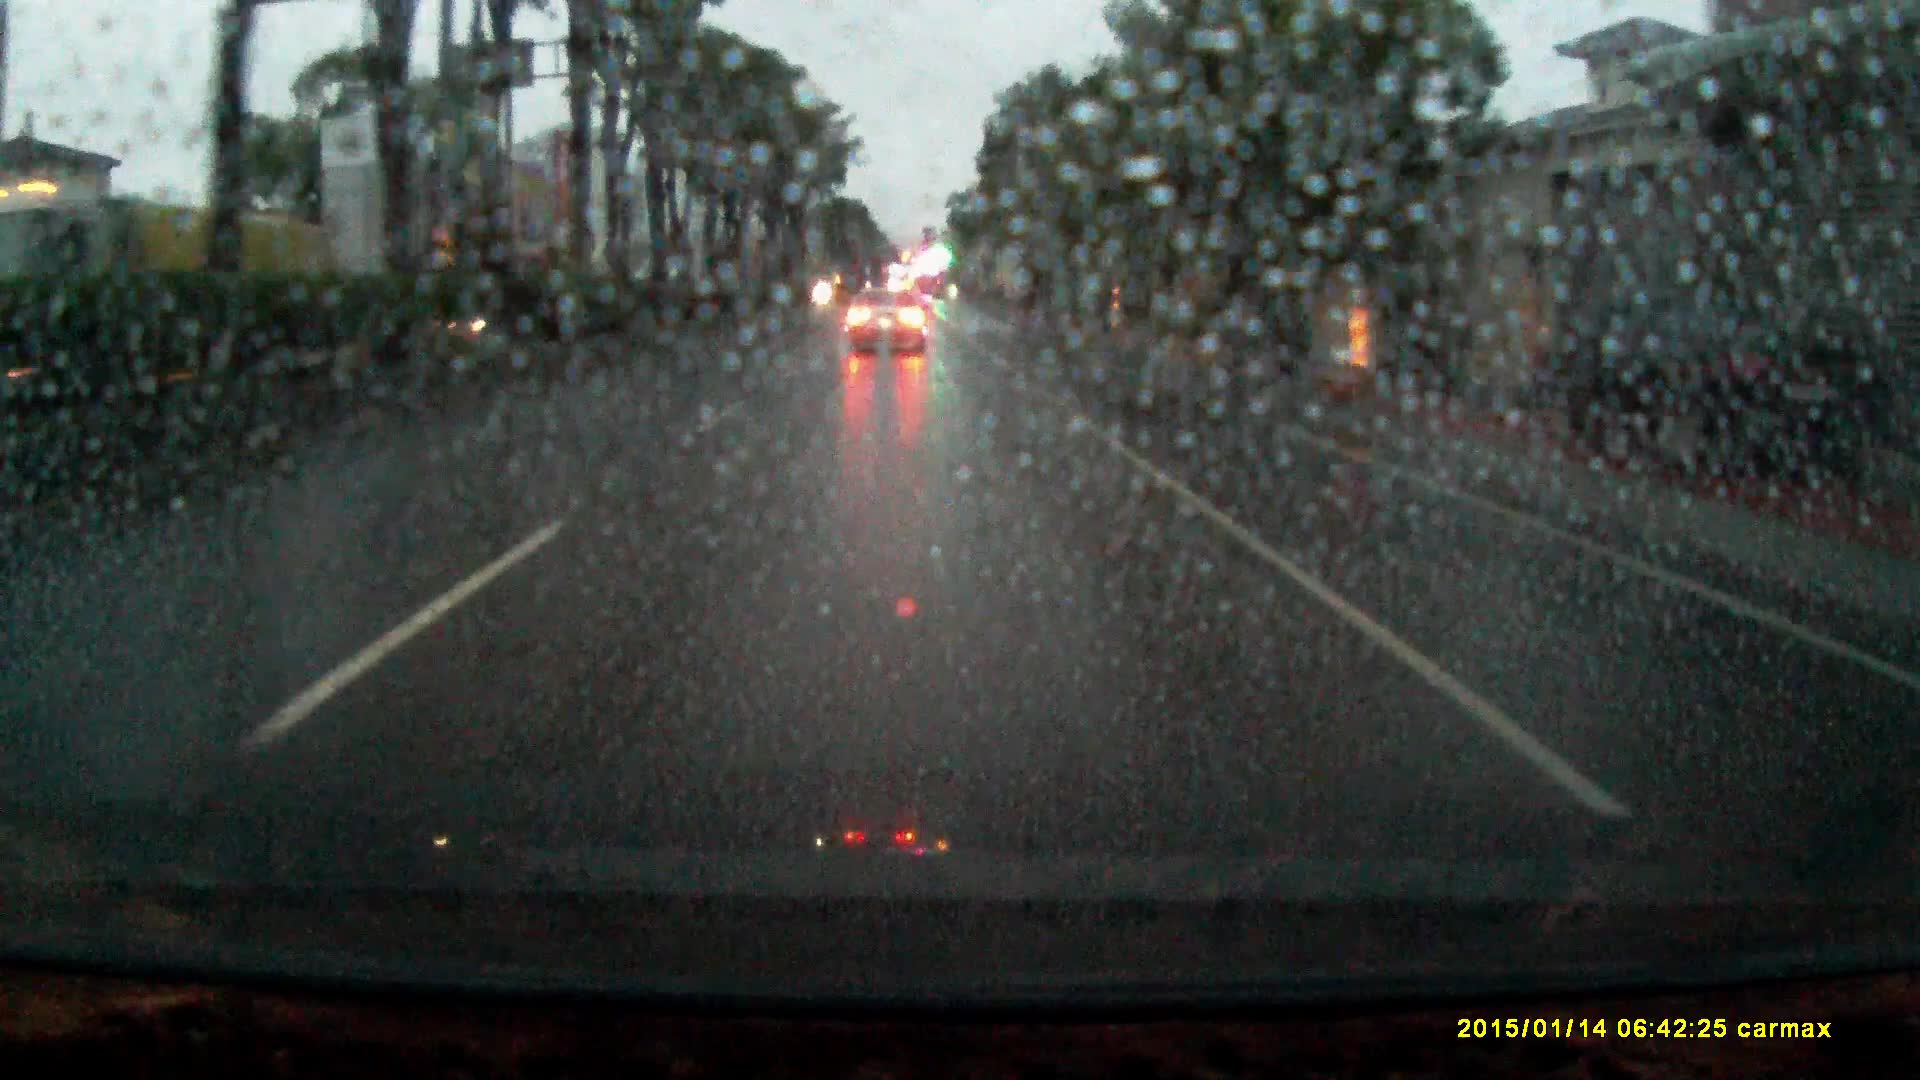vehicle: (1524, 301, 1838, 492), (26, 204, 340, 378), (844, 295, 928, 371)
